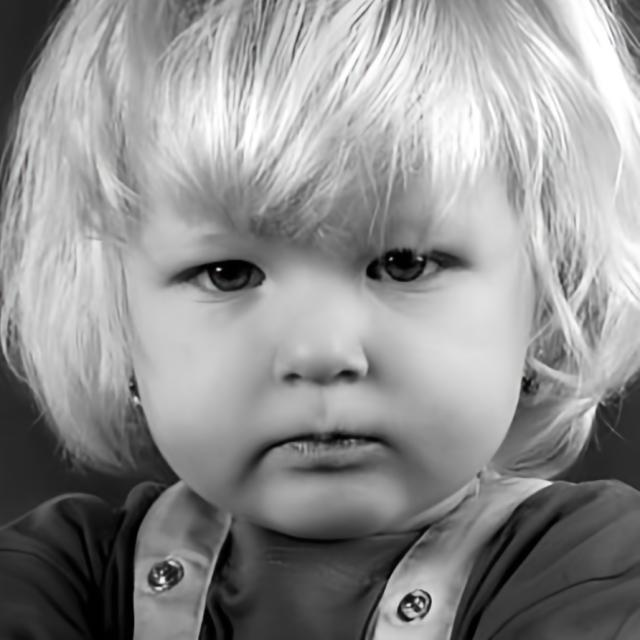anger: (123, 67, 510, 534)
